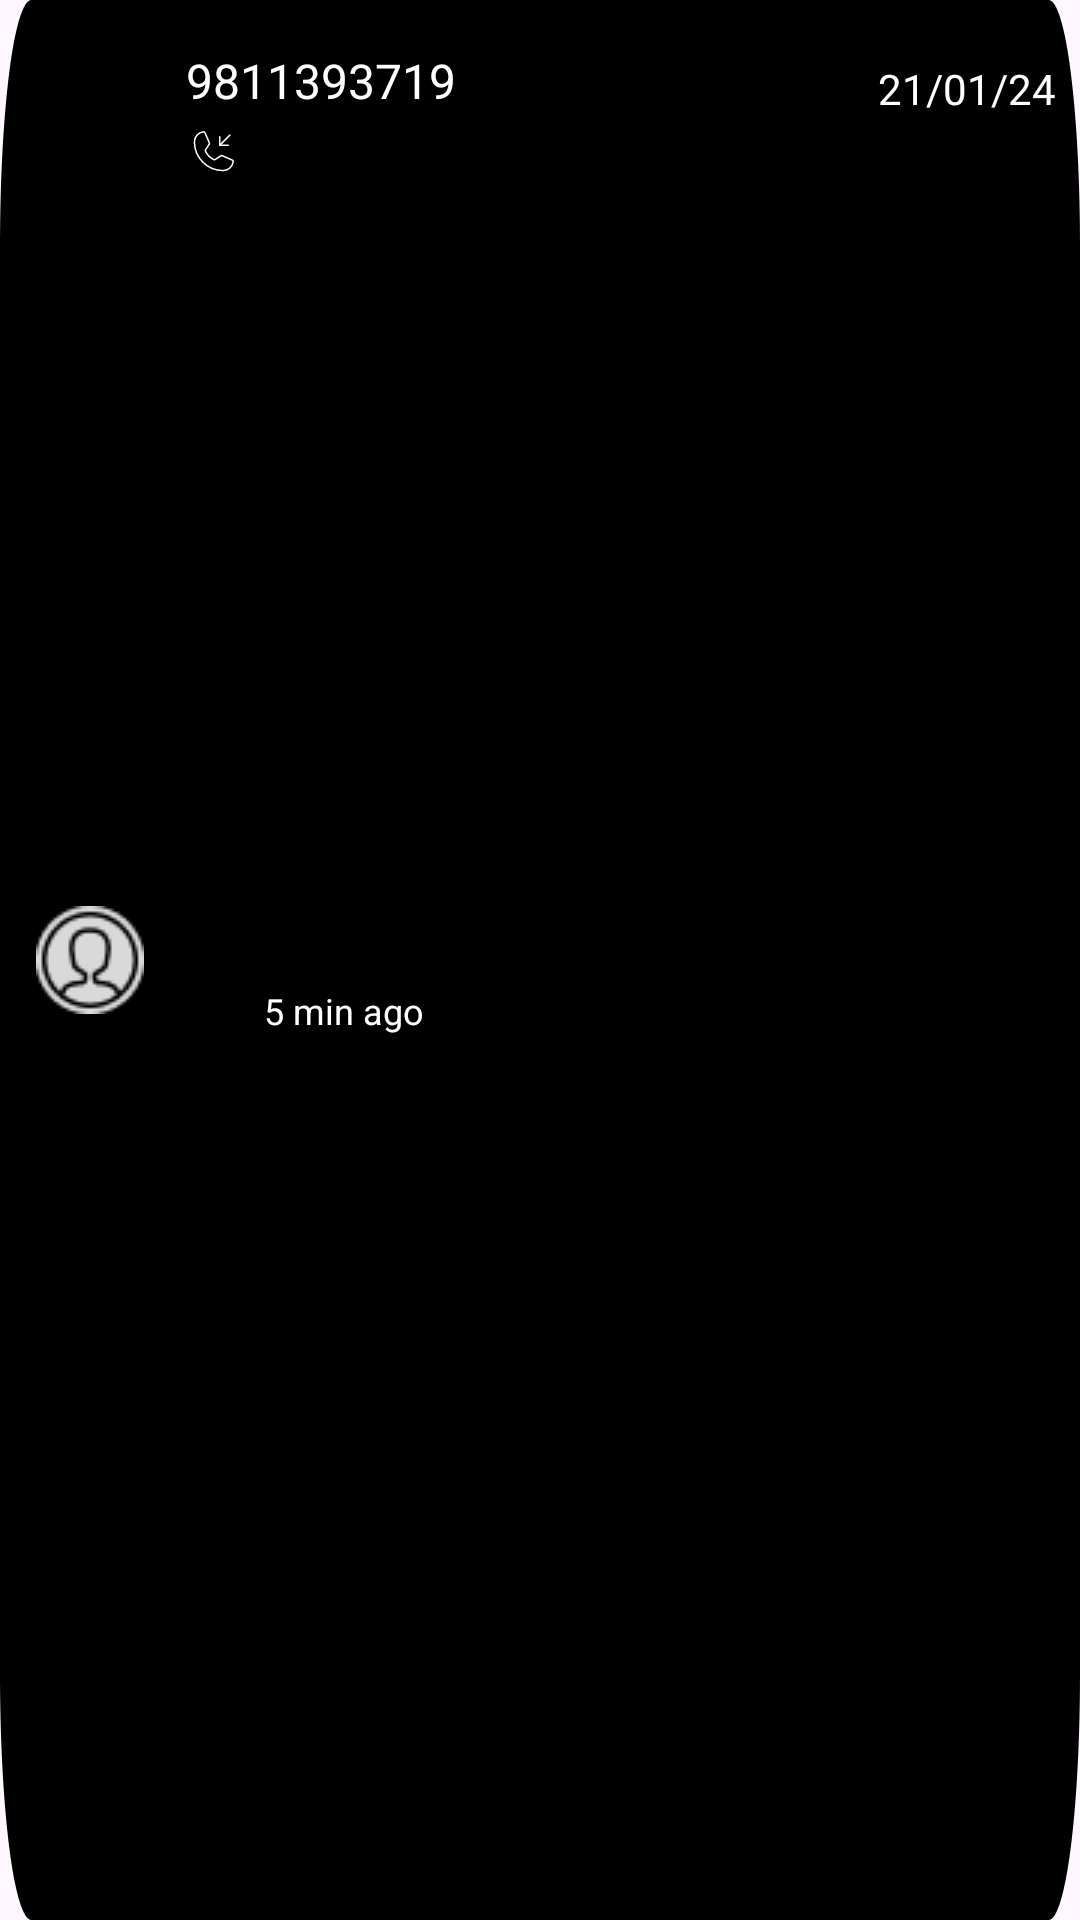

Where to tap for icons on this 1080 x 1920 app screen, as (x,y):
incoming call: (213,151)
profile: (90,960)
